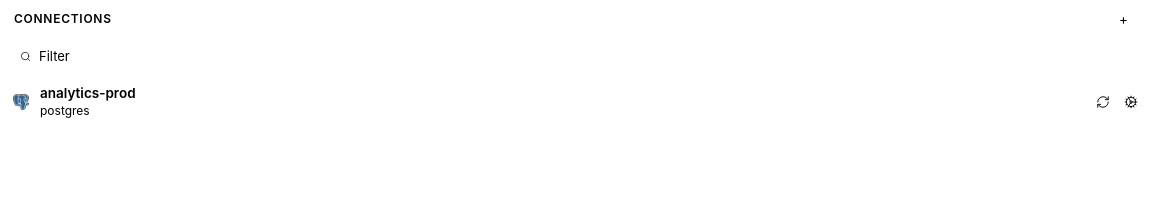
CombinedConnectionsTree › shows connection error when connect fails
The image size is (1152, 204).
Click the button with test id "expand-toggle-c1". click: (88, 93)
box: top-left (0, 78), bottom-right (1151, 126)
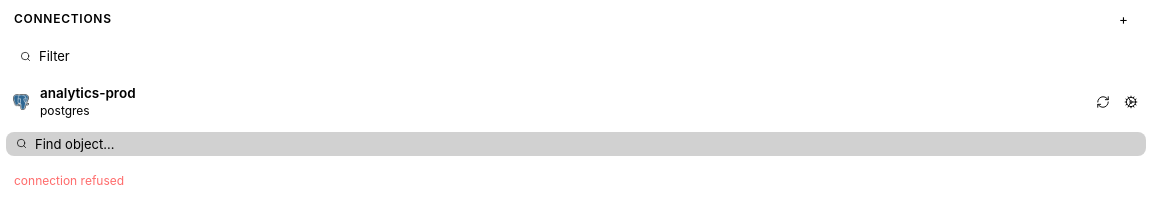
Expected: the text "connection refused" is shown, top-left (14, 173), bottom-right (124, 188)
